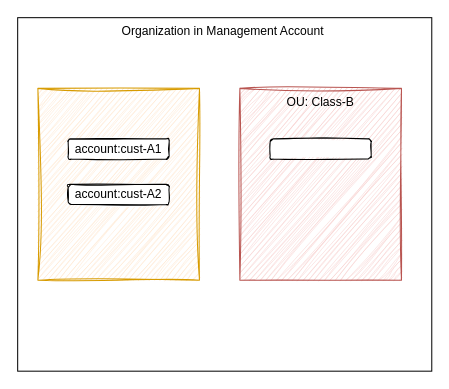
Image size: 449x389. Some labels were removed from this diagram. Here are the shapes that lost their labels. From the top down, the box of each, then its label:
(269, 138, 371, 159): account:cust-B1
(37, 87, 199, 280): OU: Class-A
